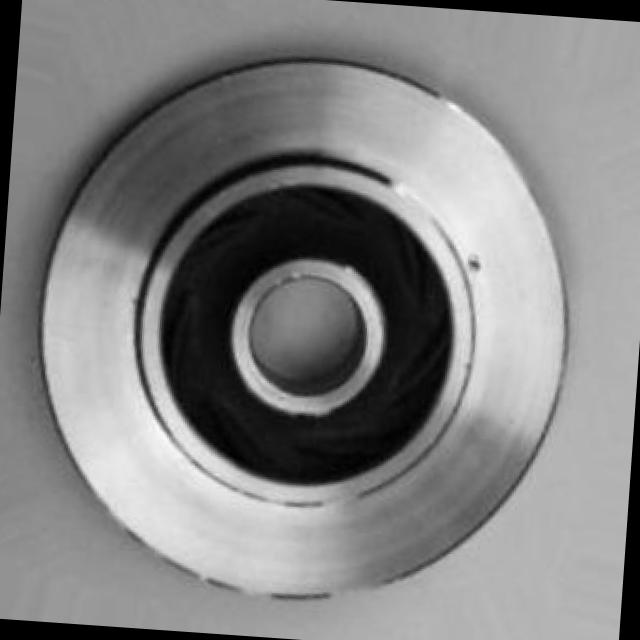Defect: (465, 249, 490, 288)
